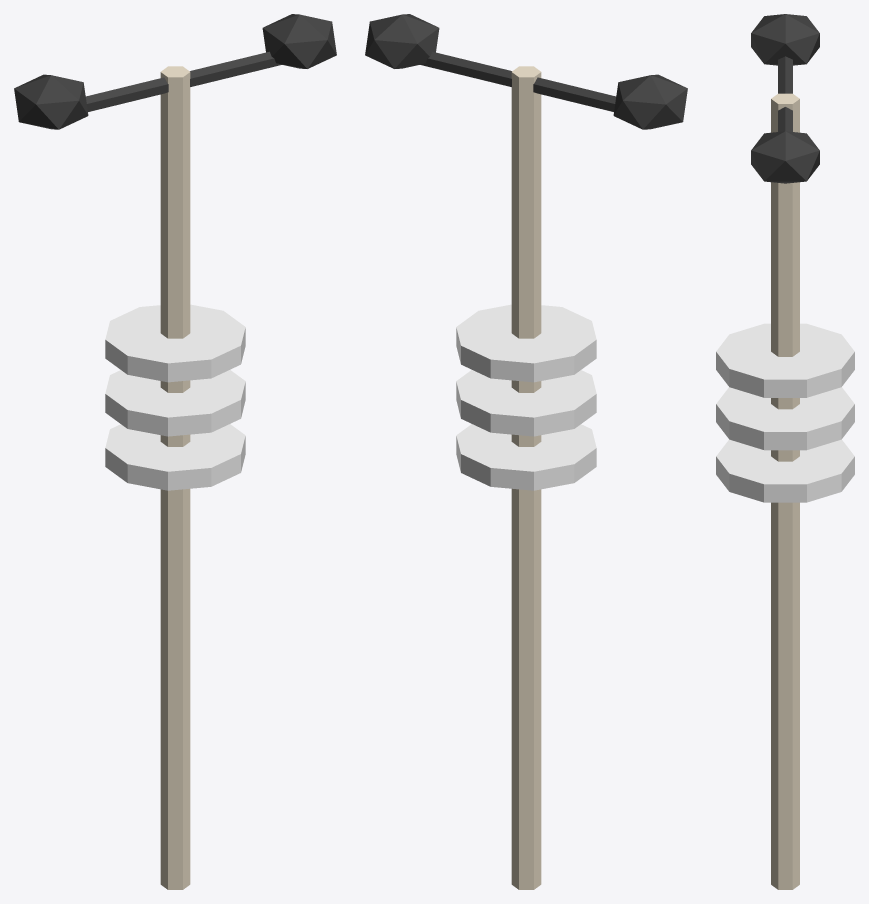
3 views of the same model, side by side, from view 1: azimuth 30°, elevation 25°; view 2: azimuth 150°, elevation 25°; view 3: azimuth 270°, elevation 25° (orthographic). The views are drawn at different scales.
Parts seen in each view (by area): view 1: Mast, Sensor shield.002, Sensor shield, Sensor shield.001, Wind cup, Wind cup.001, Anemometer; view 2: Mast, Sensor shield.002, Sensor shield, Sensor shield.001, Wind cup, Wind cup.001, Anemometer; view 3: Mast, Sensor shield.002, Sensor shield.001, Sensor shield, Wind cup.001, Wind cup, Anemometer.
Boxes of the visible parts, x1,y1,x2,y2 form: Mast: (160, 66, 190, 889); Sensor shield.002: (105, 304, 245, 382); Sensor shield: (105, 424, 245, 490); Sensor shield.001: (105, 370, 245, 436); Wind cup: (14, 74, 88, 129); Wind cup.001: (262, 14, 336, 68); Anemometer: (85, 51, 281, 111); Mast: (511, 66, 541, 889); Sensor shield.002: (456, 304, 596, 382); Sensor shield: (456, 424, 596, 490); Sensor shield.001: (456, 370, 596, 436); Wind cup: (613, 74, 687, 129); Wind cup.001: (365, 14, 439, 68); Anemometer: (420, 51, 616, 111); Mast: (771, 93, 799, 889); Sensor shield.002: (716, 323, 854, 397); Sensor shield.001: (716, 387, 854, 450); Sensor shield: (716, 439, 854, 502); Wind cup.001: (751, 131, 819, 183); Wind cup: (751, 14, 819, 65); Anemometer: (778, 56, 792, 131).
Size of the model in its own units: 0.6052 by 1.55 by 0.24.
1 material, 1 textured.
